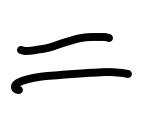eqv: (11, 33, 132, 94)
